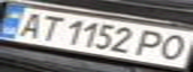1: (57, 17, 84, 46), (78, 19, 100, 49)
2: (112, 25, 139, 56)
5: (97, 21, 118, 53)
A: (6, 9, 51, 39)
O: (154, 33, 193, 62)
P: (133, 28, 172, 58)
T: (30, 12, 66, 43)
